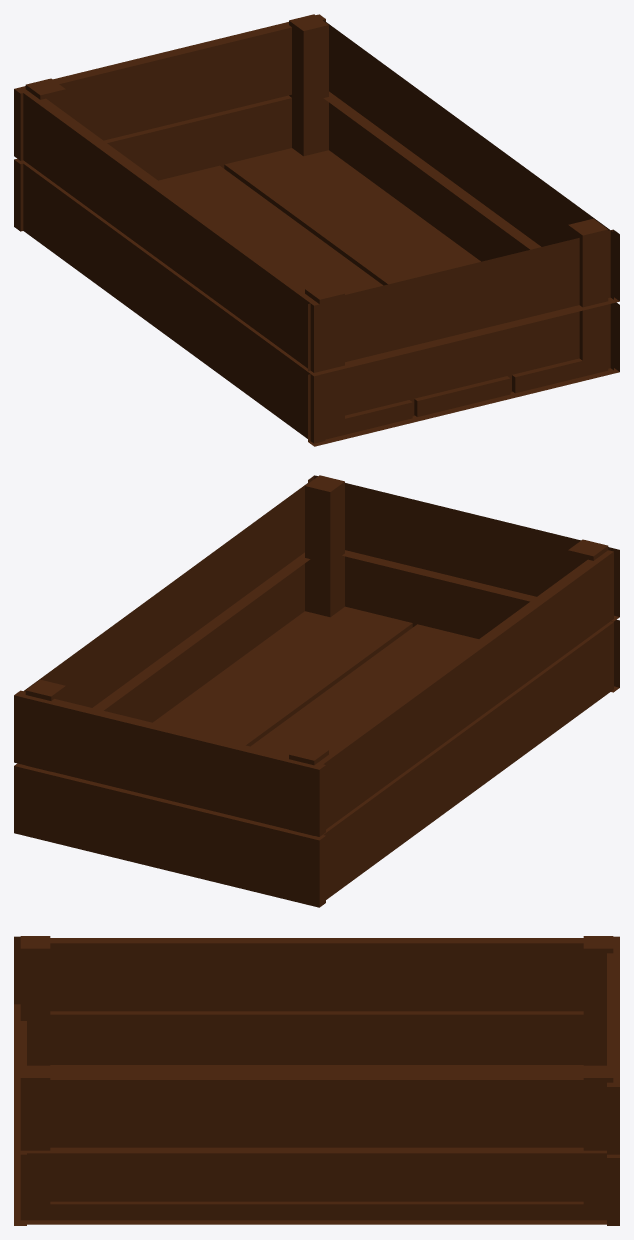
File: MBS_City_Box.fbx
3 renders of one model, top to bottom at view 1: azimuth 30°, elevation 25°; view 2: azimuth 150°, elevation 25°; view 3: azimuth 270°, elevation 25°, orthographic.
Visible parts, largest first — view 1: Cube.598; view 2: Cube.598; view 3: Cube.598.
Boxes of the visible parts, bbox=[...] form: Cube.598: bbox=[14, 14, 619, 446]; Cube.598: bbox=[14, 475, 619, 907]; Cube.598: bbox=[14, 936, 619, 1225].
Size of the model in its own units: 150 by 66.65 by 255.
